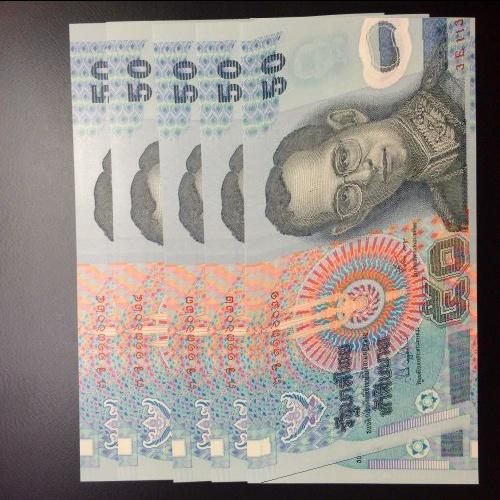50BahtTai: (248, 18, 470, 484)
